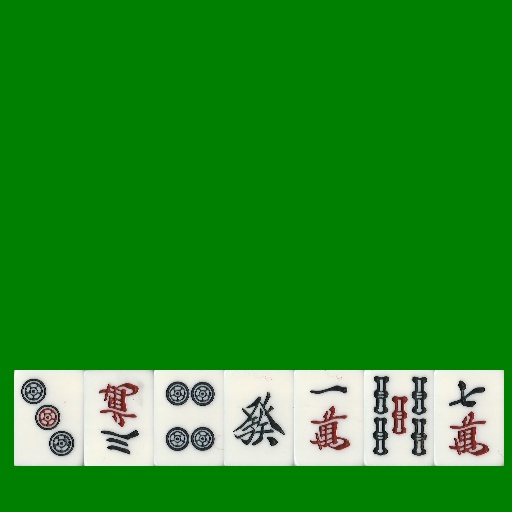1m: (294, 370, 364, 466)
3m: (84, 370, 154, 466)
3p: (14, 370, 84, 466)
4p: (154, 370, 224, 466)
5s: (364, 370, 434, 466)
7m: (434, 370, 504, 466)
hatsu: (224, 370, 294, 466)
